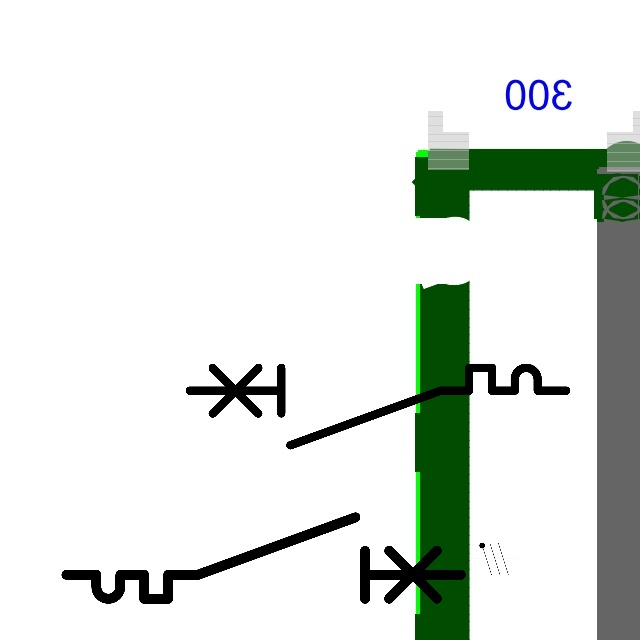interruptor_termomagnetico: (56, 507, 471, 609), (180, 358, 576, 455)
